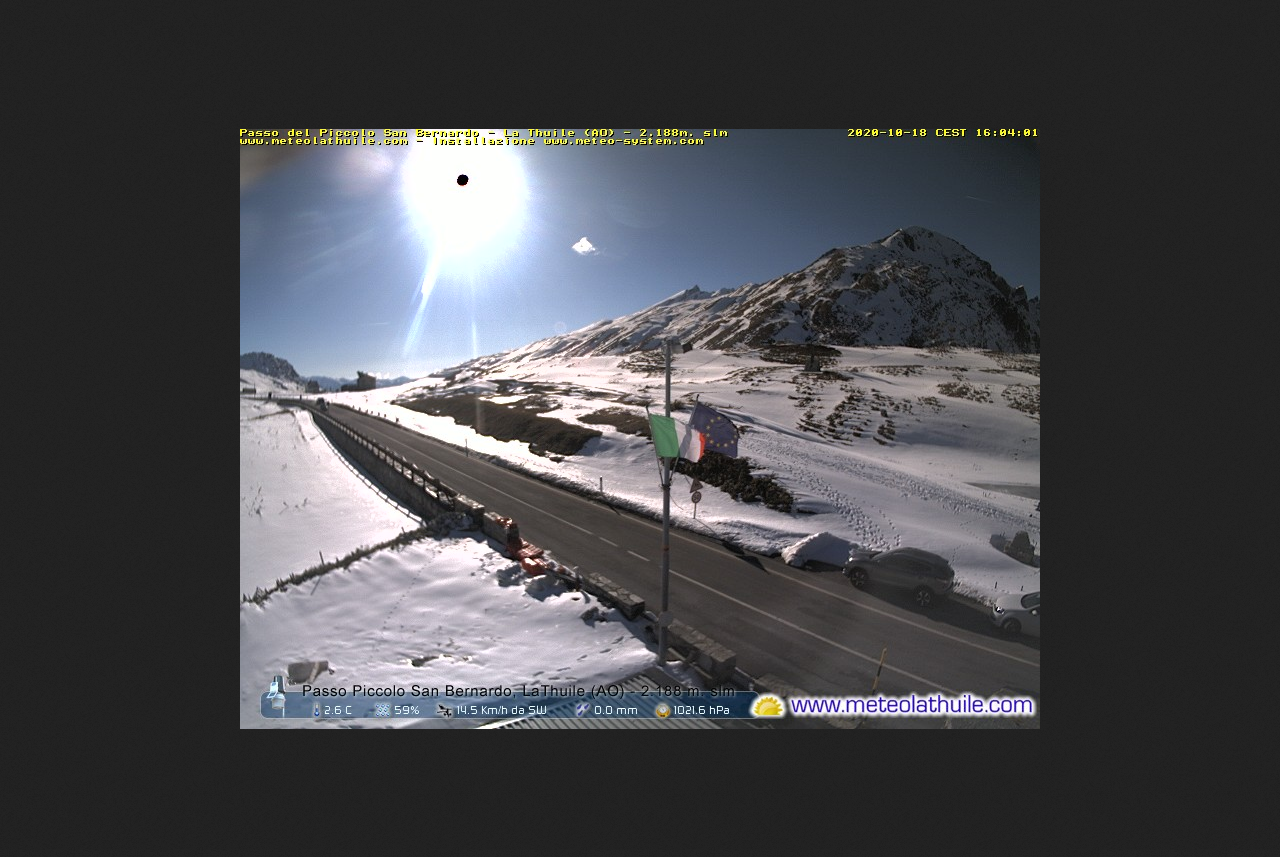yes: (680, 391, 747, 463), (642, 404, 710, 467)
